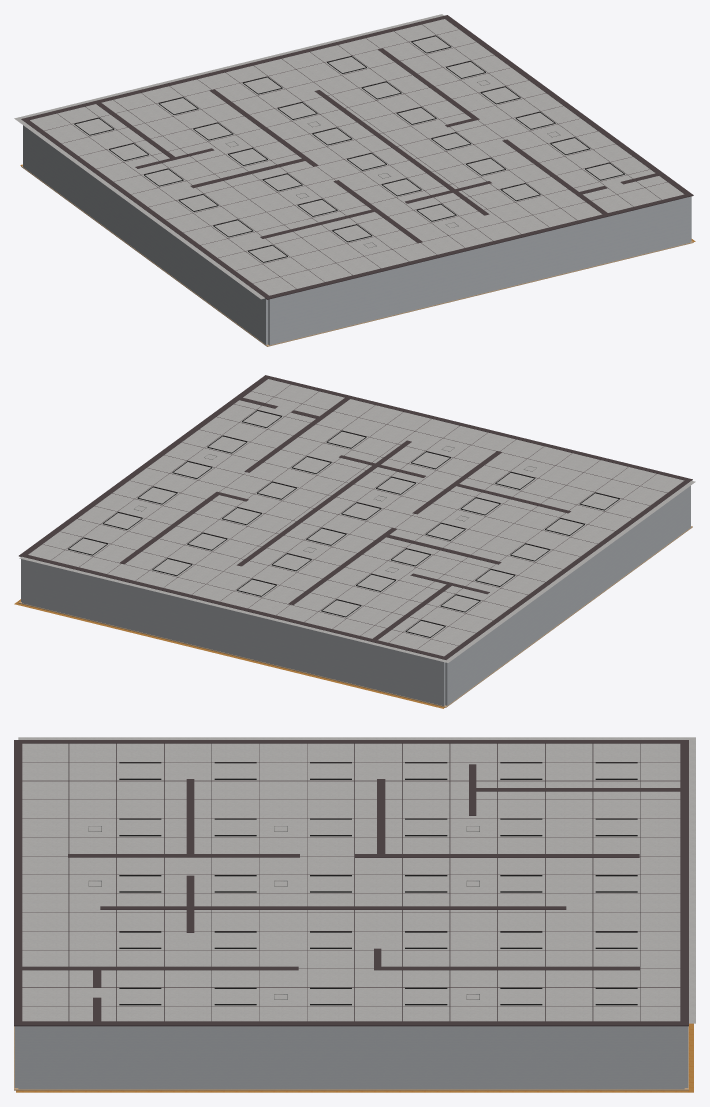
File: backroomsish_style_environment.glb
3 renders of one model, top to bottom at view 1: azimuth 30°, elevation 25°; view 2: azimuth 150°, elevation 25°; view 3: azimuth 270°, elevation 25°, orthographic. The views are drawn at different scales.
Parts seen in each view (by area): view 1: Ceiling.001_19, wall.016_6, Skirting.003_29, wall.014_4, CeilingBars.001_2, Lights.001_3, Skirting.002_28; view 2: Ceiling.001_19, wall.018_8, Skirting.003_29, wall.014_4, CeilingBars.001_2, Lights.001_3, Skirting.002_28, Floor.001_18; view 3: Ceiling.001_19, wall.017_7, Skirting.003_29, CeilingBars.001_2, Lights.001_3, Floor.001_18, Skirting.002_28.
Part boxes in pixels (x1,y1,x2,y2): Ceiling.001_19: (14,14,684,299); wall.016_6: (268,196,690,345); Skirting.003_29: (21,15,693,299); wall.014_4: (23,125,268,344); CeilingBars.001_2: (44,24,667,288); Lights.001_3: (74,35,624,262); Skirting.002_28: (21,165,693,346); Ceiling.001_19: (19,379,695,662); wall.018_8: (22,559,445,705); Skirting.003_29: (19,375,692,659); wall.014_4: (445,486,690,705); CeilingBars.001_2: (43,384,667,649); Lights.001_3: (68,410,619,637); Skirting.002_28: (18,526,692,707); Floor.001_18: (14,599,444,708); Ceiling.001_19: (18,737,695,1023); wall.017_7: (18,1026,684,1089); Skirting.003_29: (14,740,688,1026); CeilingBars.001_2: (22,743,680,1021); Lights.001_3: (119,762,637,1005); Floor.001_18: (16,1023,693,1092); Skirting.002_28: (14,1026,688,1090).
Size of the model in its own units: 25.22 by 2.69 by 25.04.
Materials: 9 (6 with a texture image).
